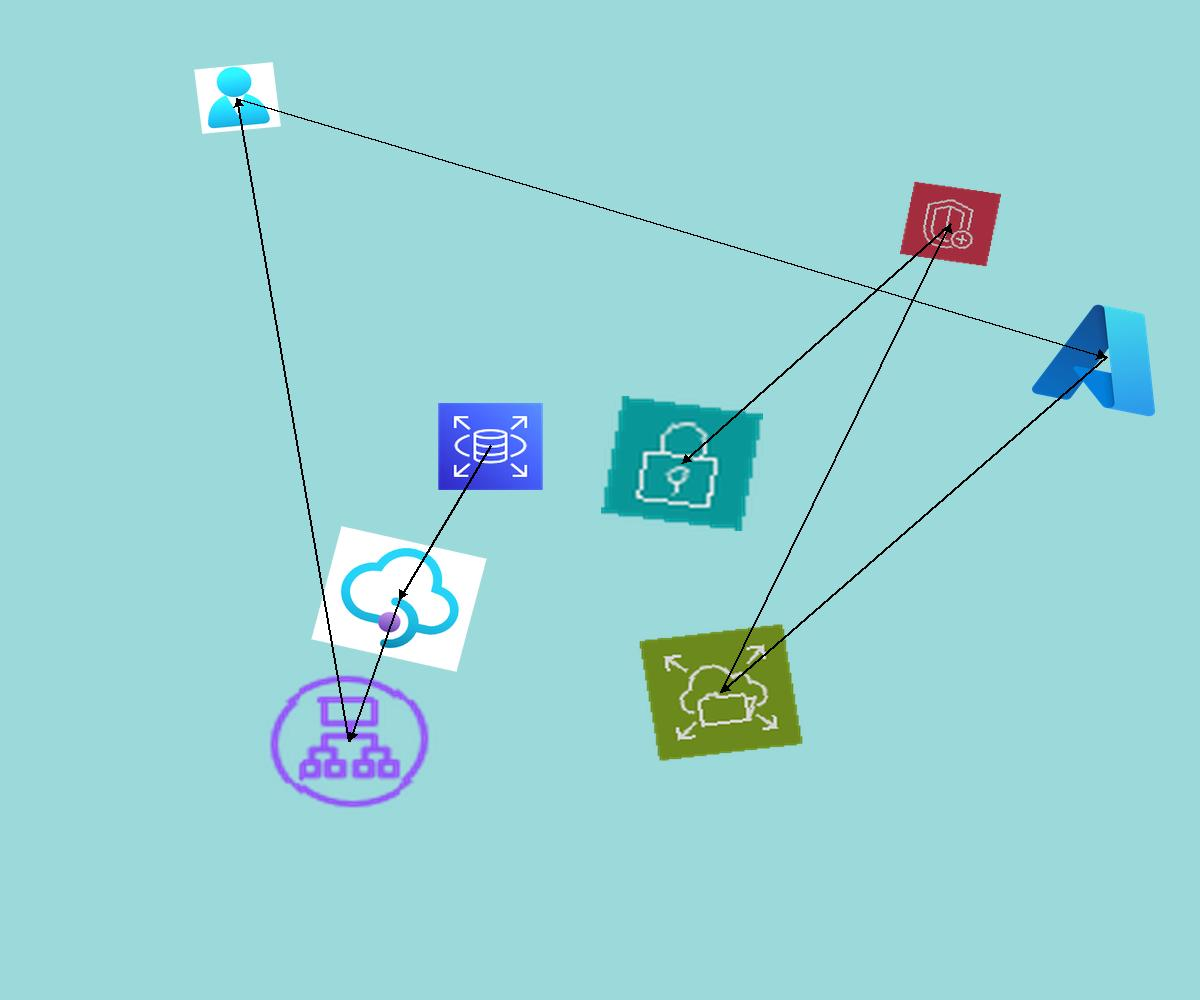AWS-EFS: (638, 623, 804, 762)
AWS-Private-subnet: (601, 396, 763, 531)
AWS-RDS: (437, 402, 544, 491)
AWS-Res_Elastic-Load-Balancing_Application-Load-Balancer: (260, 667, 439, 816)
AWS-Shield: (899, 181, 1002, 267)
Azure_api_gateway: (311, 526, 487, 672)
Azure_services: (1023, 288, 1189, 426)
Azure_users: (194, 62, 281, 134)
